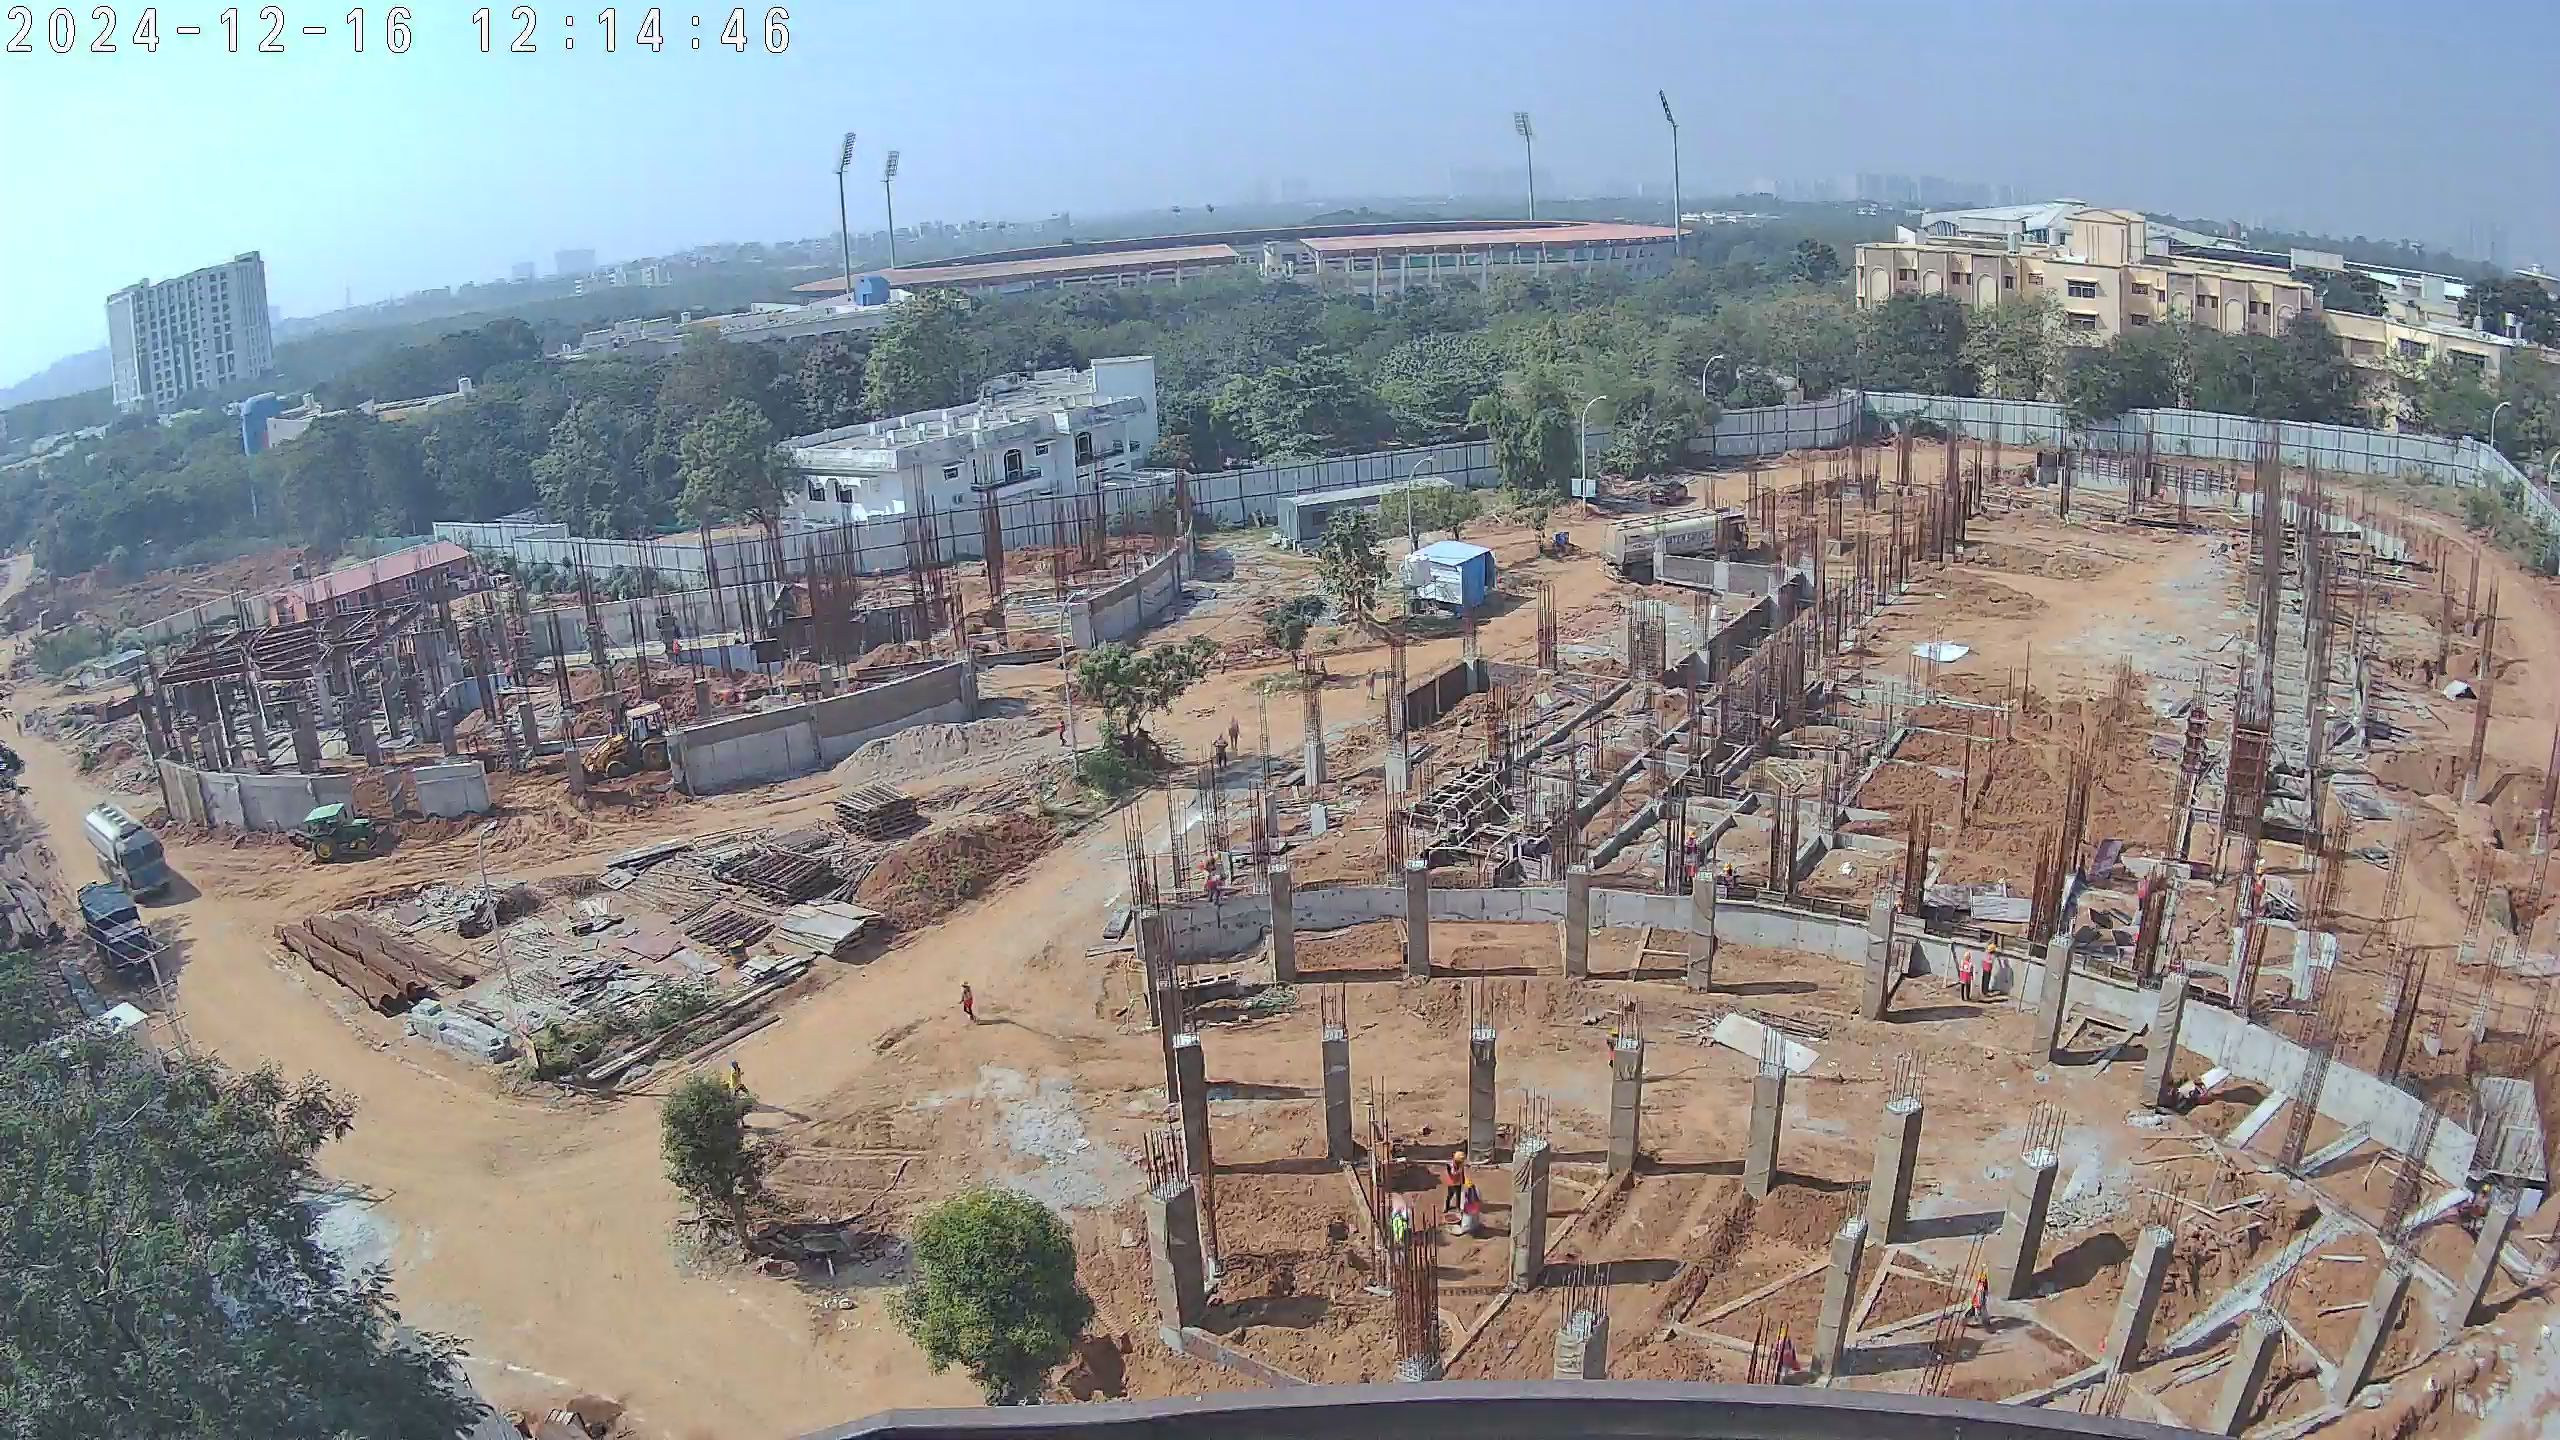bulldozer: (574, 698, 681, 787), (283, 797, 407, 868)
truck: (1608, 508, 1754, 595), (75, 802, 170, 900), (74, 887, 160, 983)
worker: (1958, 1253, 2002, 1338), (1433, 1150, 1472, 1222), (1600, 1016, 1635, 1084), (1385, 1204, 1418, 1275), (722, 1060, 755, 1110), (1978, 938, 2005, 999), (1202, 856, 1230, 910), (1955, 944, 1979, 1005), (2469, 1174, 2494, 1230), (2249, 858, 2268, 922), (2187, 1071, 2218, 1108), (1681, 830, 1703, 882), (1716, 860, 1745, 897), (958, 975, 979, 1025), (1213, 731, 1231, 774), (2135, 872, 2152, 915), (1225, 713, 1243, 753), (1055, 715, 1070, 747), (669, 635, 683, 669)
